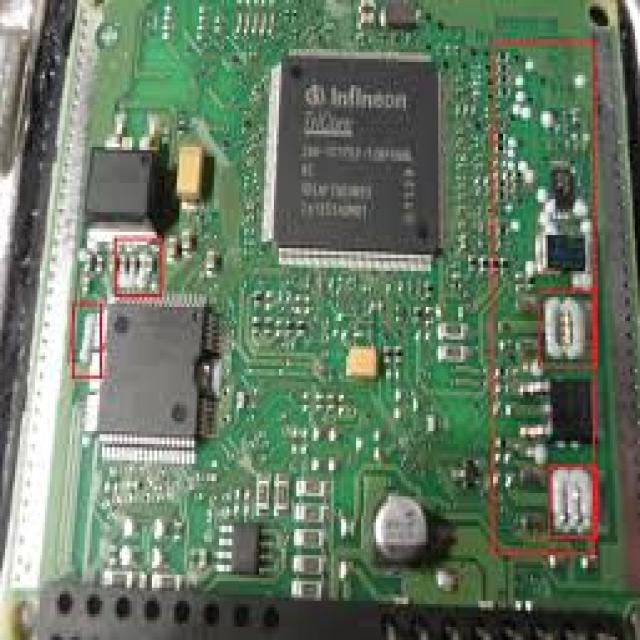pcb: (0, 0, 638, 637), (259, 46, 443, 264), (95, 297, 209, 454), (174, 140, 212, 202)
